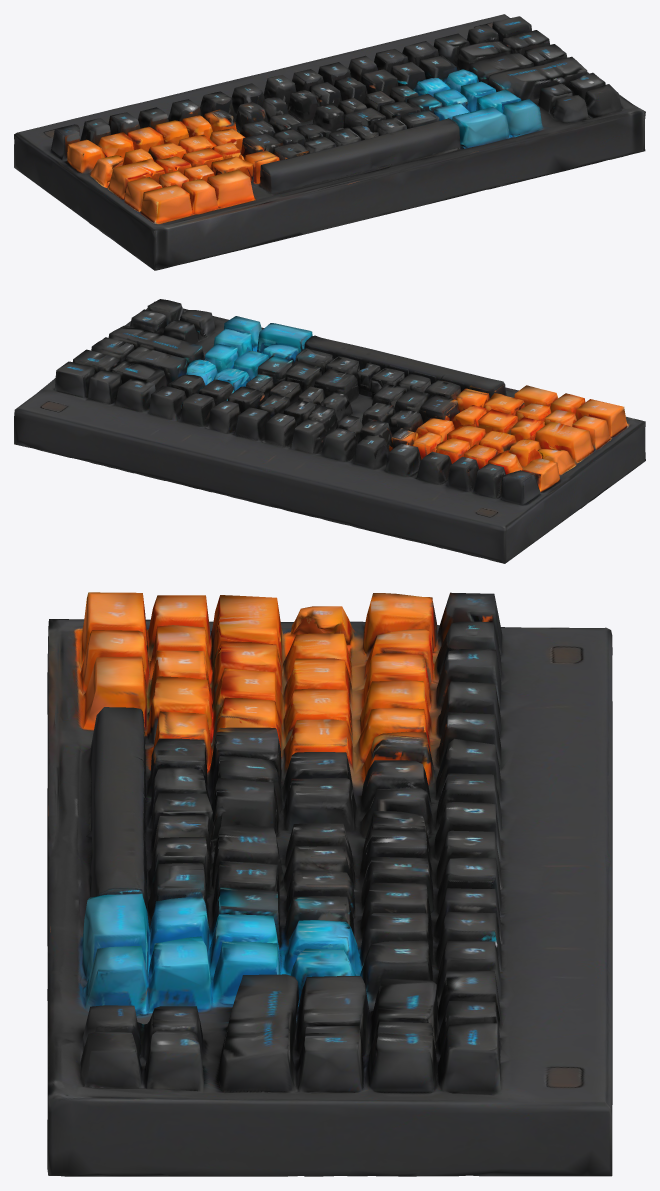
File: keyboard.glb
3 renders of one model, top to bottom at view 1: azimuth 30°, elevation 25°; view 2: azimuth 150°, elevation 25°; view 3: azimuth 270°, elevation 25°, orthographic. The views are drawn at different scales.
Bounding box in the file's own units: 2 × 0.2327 × 0.9952.
Materials: 1 (1 with a texture image).
